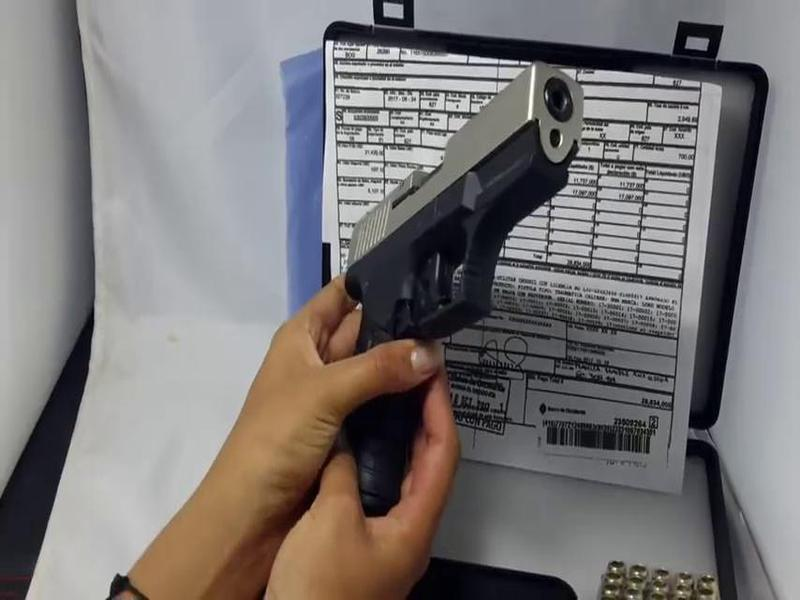Pistola: (274, 57, 597, 494)
